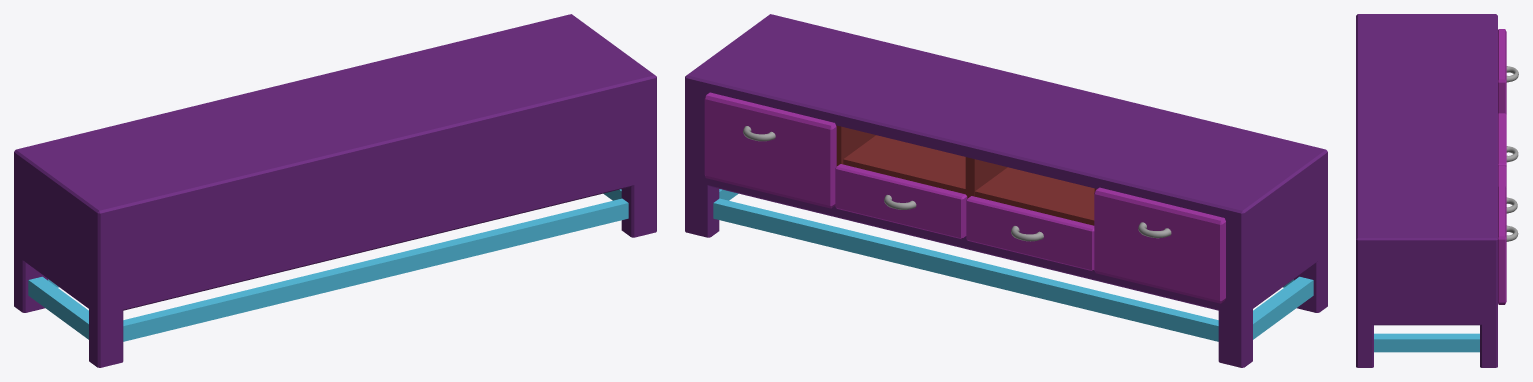
File: Mesa de Sala de Estar.fbx
3 views of the same model, side by side, from view 1: azimuth 30°, elevation 25°; view 2: azimuth 150°, elevation 25°; view 3: azimuth 270°, elevation 25° (orthographic). The views are drawn at different scales.
Parts seen in each view (by area): view 1: Mesa_de_Sala_de_estar; view 2: Mesa_de_Sala_de_estar; view 3: Mesa_de_Sala_de_estar.
Part boxes in pixels (<box>): Mesa_de_Sala_de_estar: <box>14,14,656,367</box>; Mesa_de_Sala_de_estar: <box>685,14,1327,367</box>; Mesa_de_Sala_de_estar: <box>1356,14,1518,367</box>.
Bounding box in the file's own units: 150 × 40.08 × 45.73.
